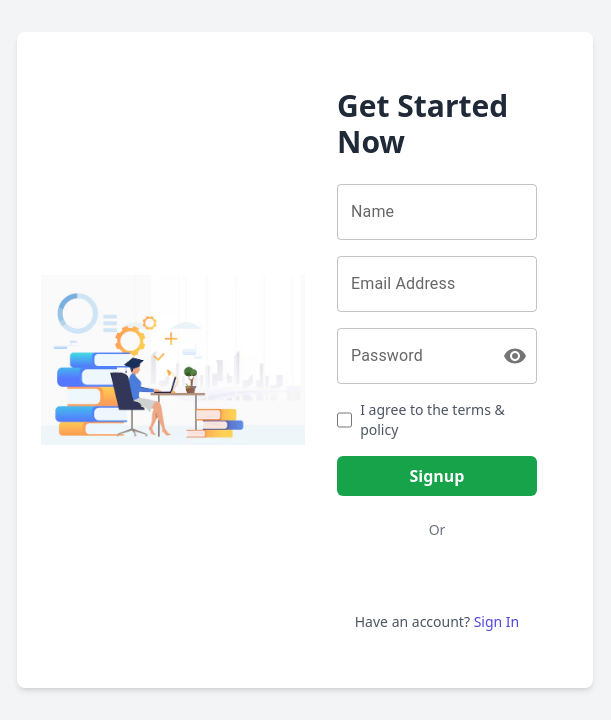
Scenario: SignupForm Component › Form Submission › displays error message on signup failure
Type "Test User" into the field labelled "Name" at (437, 212), box [337,184,537,240]
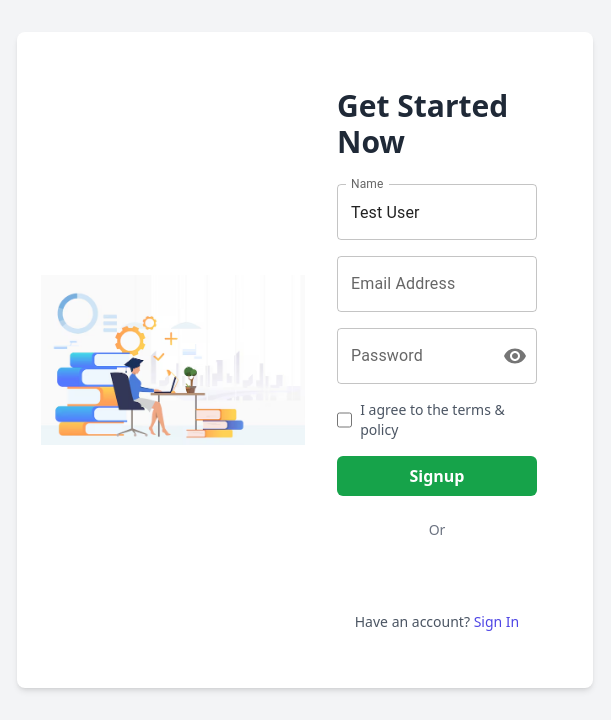
Type "test@example.com" into the field labelled "Email Address" at (437, 284), box [337,256,537,312]
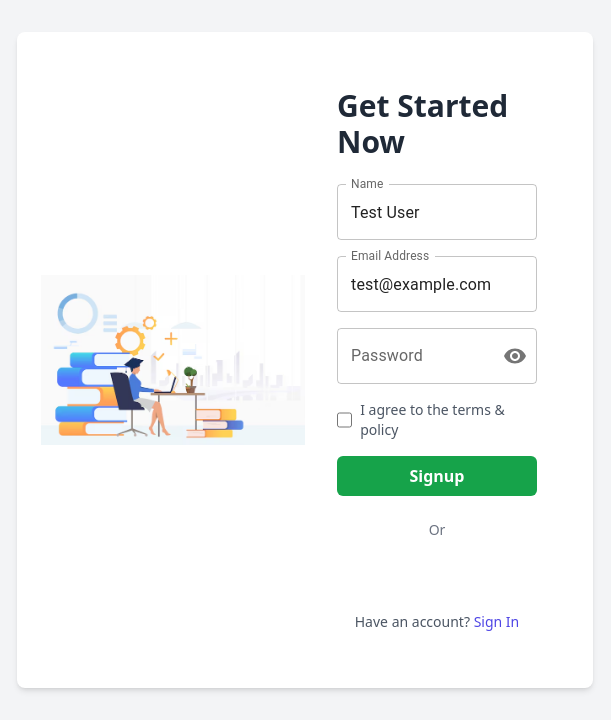
Type "password123" into the password field labelled "Password" at (412, 356), box [337,328,487,384]
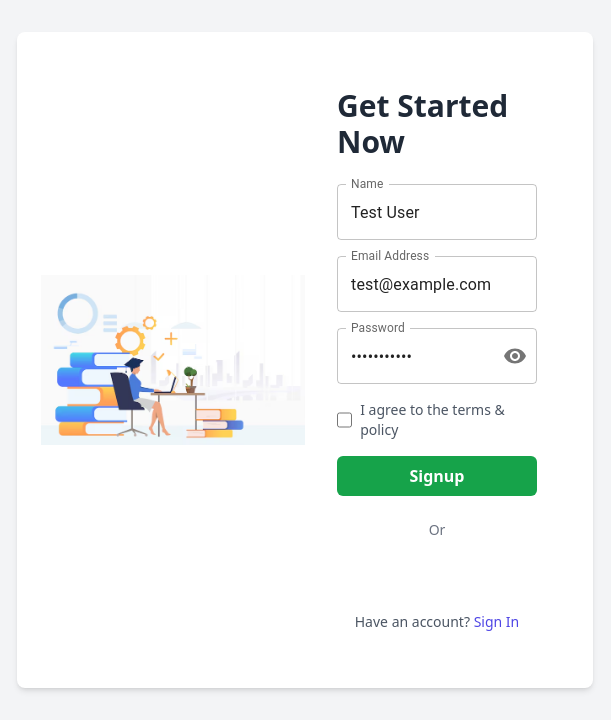
Click the checkbox at (345, 420), box [337,412,352,428]
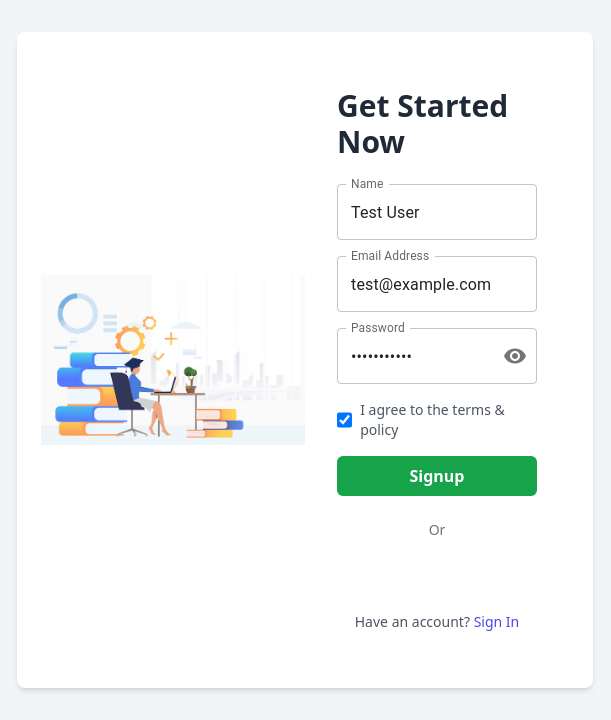
Click the button "Signup" at (437, 476), box [337,456,537,496]
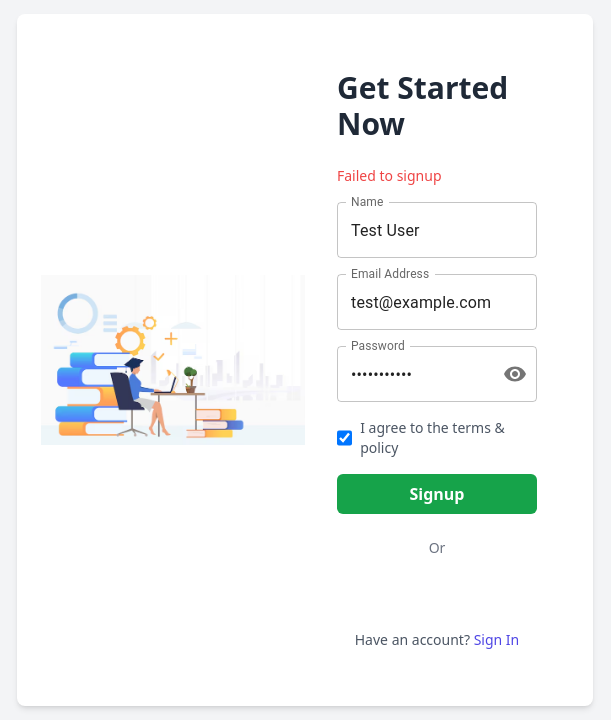
Expected: the text "Failed to signup" is shown, [337,166,442,185]
